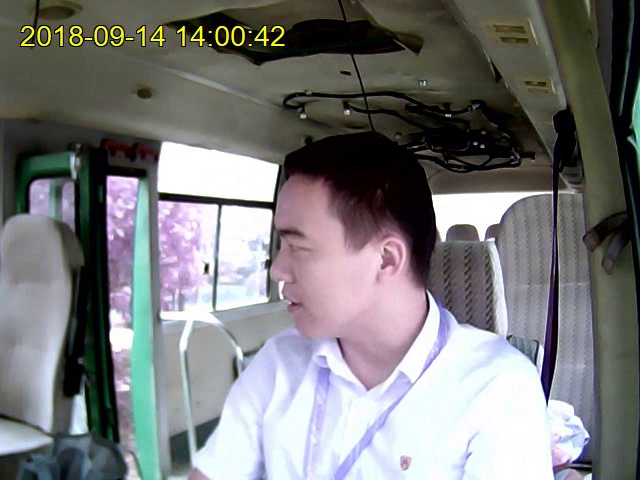closed_mouth: (281, 291, 302, 317)
